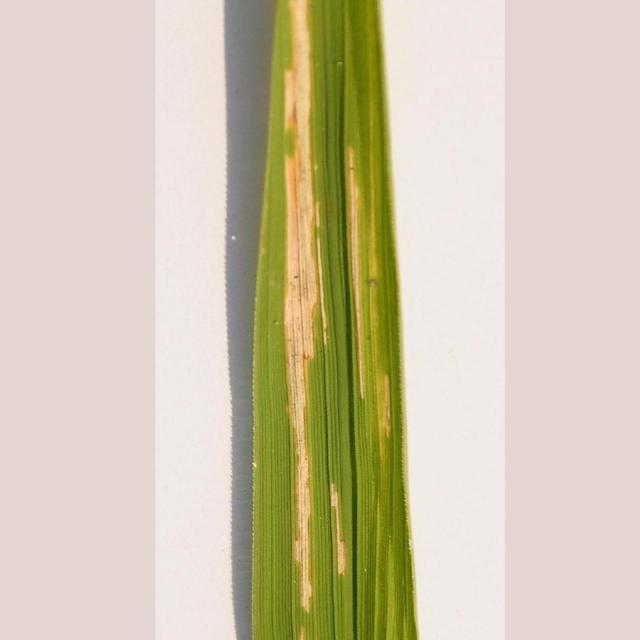Bacterial leaf blight: (273, 1, 322, 638), (344, 132, 402, 460), (329, 477, 352, 585)
